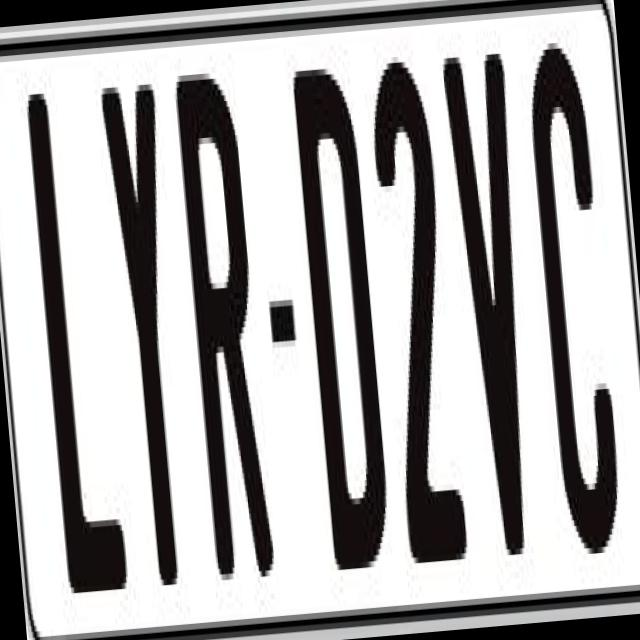2: (362, 48, 468, 552)
C: (520, 40, 630, 572)
D: (288, 49, 394, 582)
L: (23, 84, 128, 605)
R: (170, 65, 280, 610)
V: (436, 36, 542, 546)
Y: (95, 72, 196, 598)
